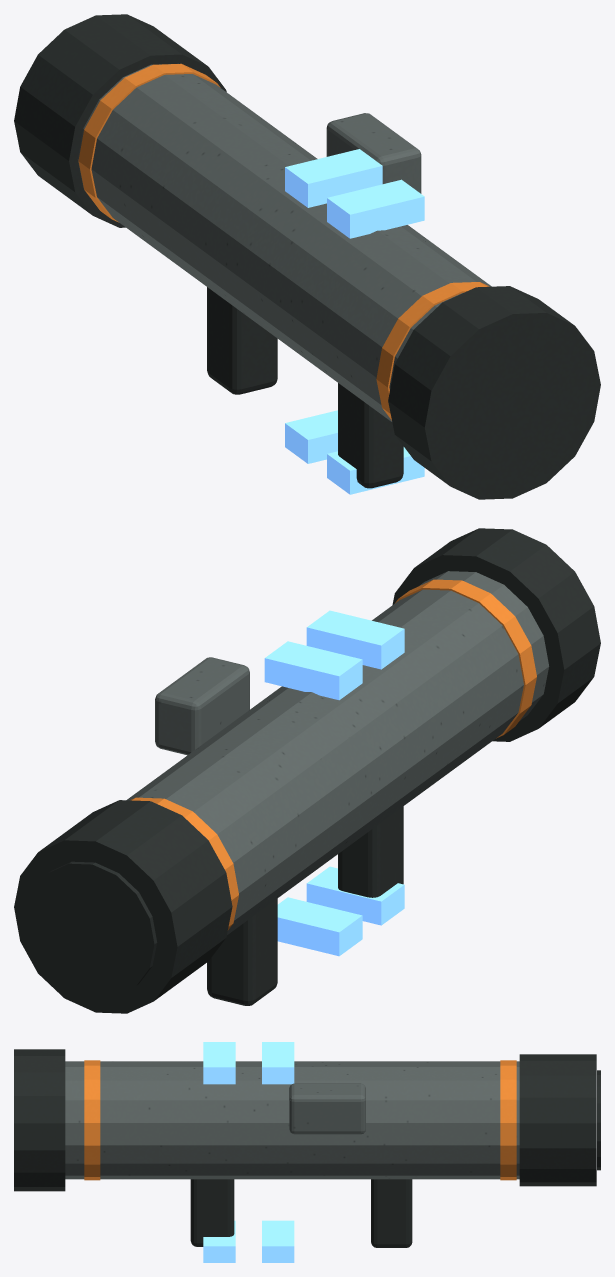
The model's file is rocket_2.glb.
3 renders of one model, top to bottom at view 1: azimuth 30°, elevation 25°; view 2: azimuth 150°, elevation 25°; view 3: azimuth 270°, elevation 25°, orthographic. The views are drawn at different scales.
Parts seen in each view (by area): view 1: Weapon_rocket, GRADE_2_RAIL_0_1, GRADE_2_RAIL_1_1, GRADE_2_RAIL_1_-1, GRADE_2_RAIL_0_-1; view 2: Weapon_rocket, GRADE_2_RAIL_1_1, GRADE_2_RAIL_0_1, GRADE_2_RAIL_1_-1, GRADE_2_RAIL_0_-1; view 3: Weapon_rocket, GRADE_2_RAIL_0_1, GRADE_2_RAIL_1_-1, GRADE_2_RAIL_1_1, GRADE_2_RAIL_0_-1.
Part boxes in pixels (x1=…): Weapon_rocket: x1=14, y1=14, x2=600, y2=499; GRADE_2_RAIL_0_1: x1=327, y1=179, x2=424, y2=238; GRADE_2_RAIL_1_1: x1=285, y1=149, x2=382, y2=207; GRADE_2_RAIL_1_-1: x1=285, y1=410, x2=337, y2=463; GRADE_2_RAIL_0_-1: x1=327, y1=447, x2=424, y2=494; Weapon_rocket: x1=14, y1=528, x2=600, y2=1013; GRADE_2_RAIL_1_1: x1=264, y1=641, x2=362, y2=700; GRADE_2_RAIL_0_1: x1=306, y1=610, x2=404, y2=669; GRADE_2_RAIL_1_-1: x1=277, y1=897, x2=362, y2=956; GRADE_2_RAIL_0_-1: x1=306, y1=866, x2=404, y2=925; Weapon_rocket: x1=14, y1=1049, x2=600, y2=1247; GRADE_2_RAIL_0_1: x1=203, y1=1042, x2=235, y2=1084; GRADE_2_RAIL_1_-1: x1=262, y1=1220, x2=294, y2=1262; GRADE_2_RAIL_1_1: x1=262, y1=1042, x2=294, y2=1084; GRADE_2_RAIL_0_-1: x1=203, y1=1220, x2=235, y2=1262.
Bounding box in the file's own units: 0.2475 × 0.3371 × 0.917.
4 materials, 3 textured.
